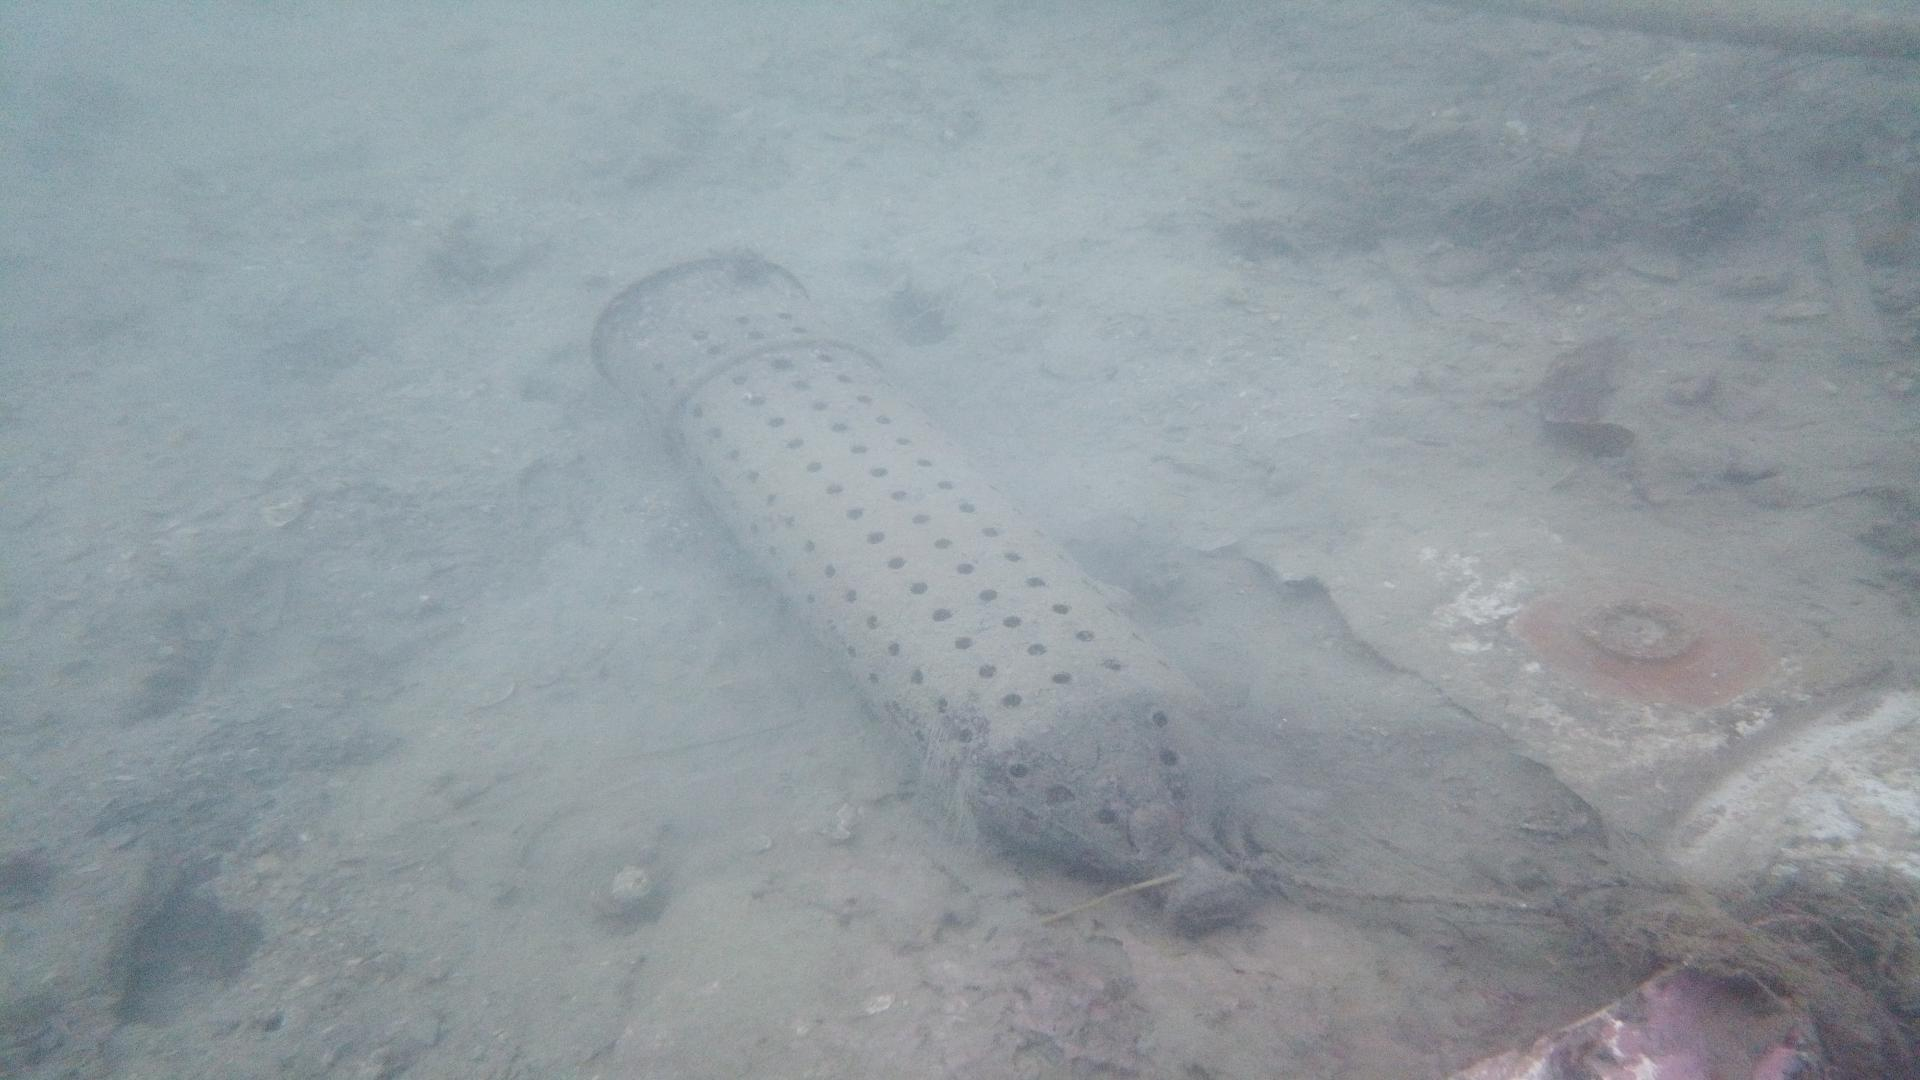bundle of ropes: (1251, 855, 1764, 965)
eel fish trap: (579, 229, 1262, 942)
